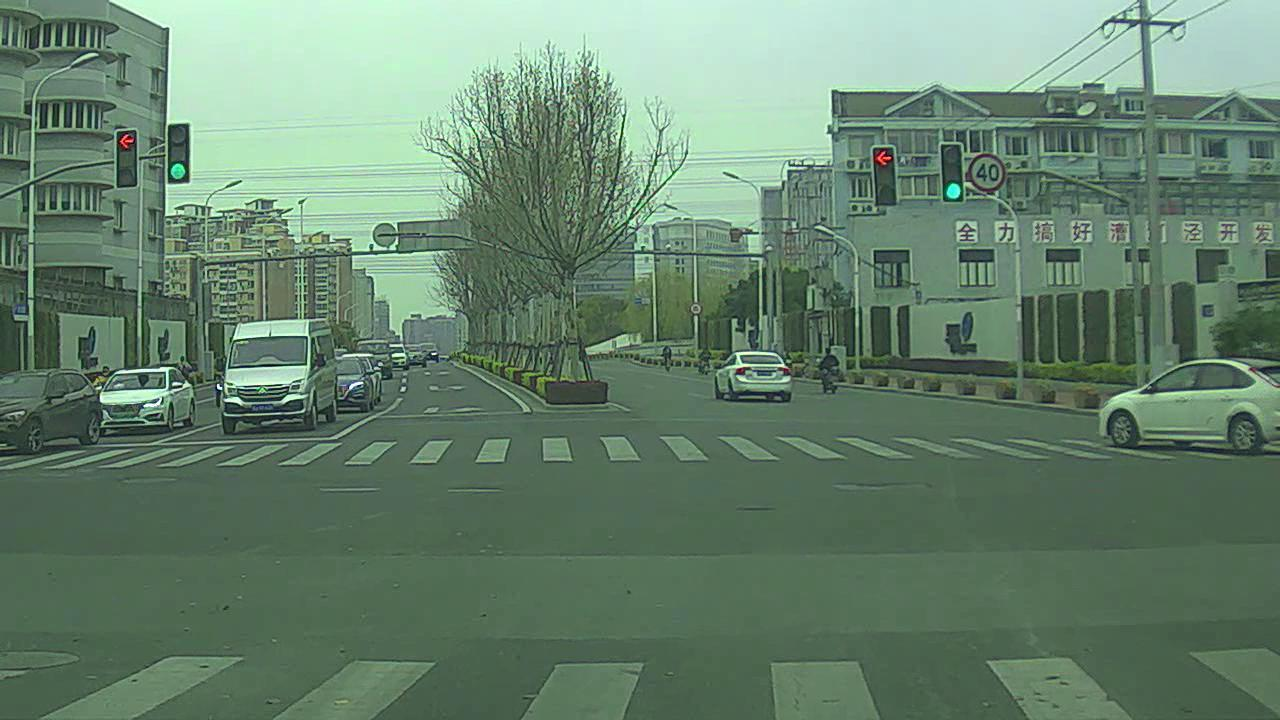traffic_light: (873, 146, 902, 211), (113, 129, 143, 184), (167, 122, 192, 184), (945, 143, 964, 202)
